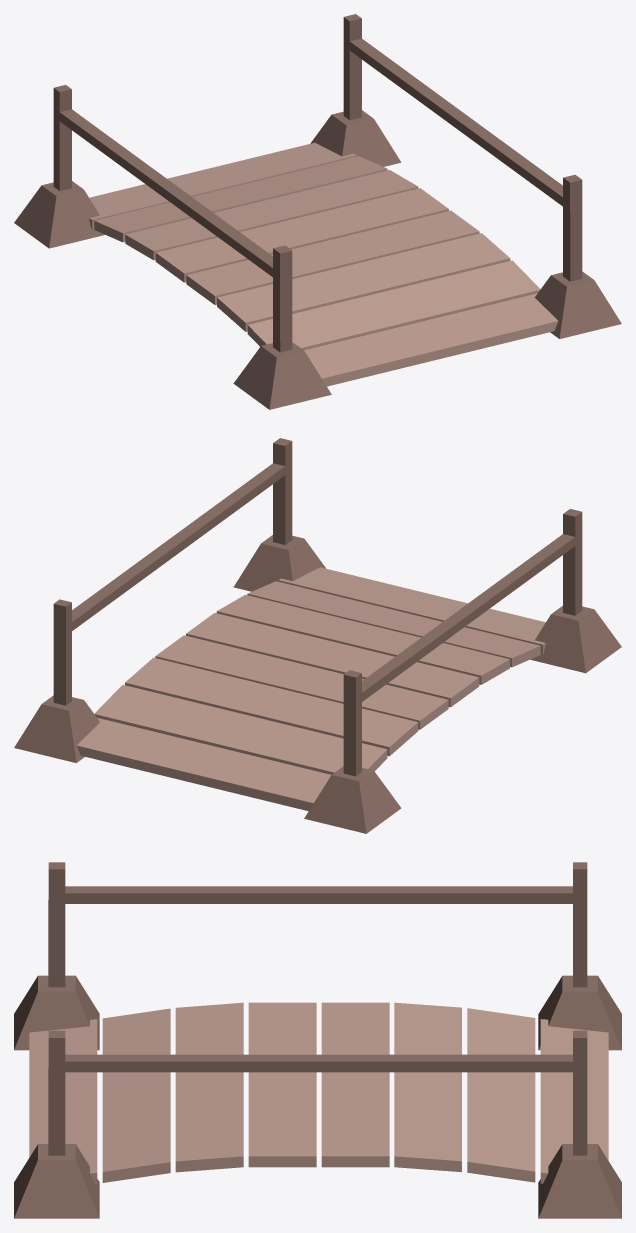
Rendered from Puente.fbx.
3 views of the same model, one above another, from view 1: azimuth 30°, elevation 25°; view 2: azimuth 150°, elevation 25°; view 3: azimuth 270°, elevation 25° (orthographic). The views are drawn at different scales.
Visible parts, largest first — view 1: pCube9, pCube15, pCube16; view 2: pCube9, pCube15, pCube16; view 3: pCube9, pCube16, pCube15.
Boxes of the visible parts, x1,y1,x2,y2 form: pCube9: [89, 142, 558, 386]; pCube15: [14, 85, 331, 409]; pCube16: [310, 14, 621, 338]; pCube9: [77, 567, 545, 811]; pCube15: [304, 509, 621, 833]; pCube16: [14, 438, 325, 762]; pCube9: [29, 1002, 608, 1183]; pCube16: [14, 1030, 621, 1218]; pCube15: [14, 862, 621, 1050].
Bounding box in the file's own units: 4.61 × 1.75 × 5.79.
